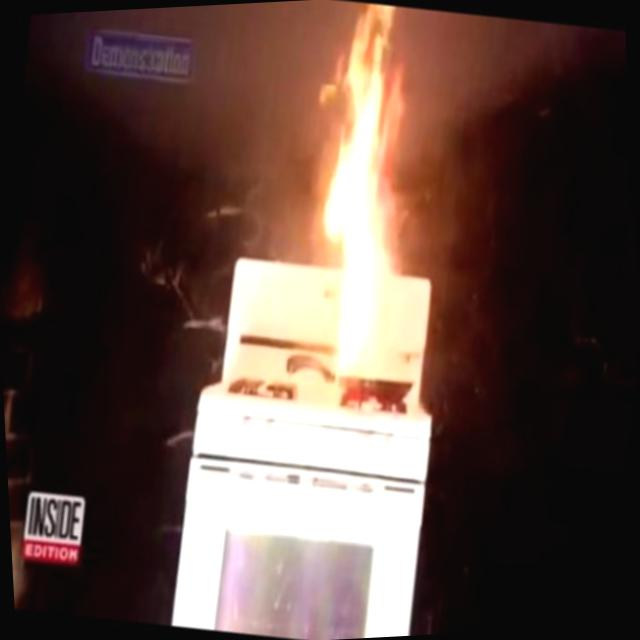fire: (231, 0, 506, 454)
